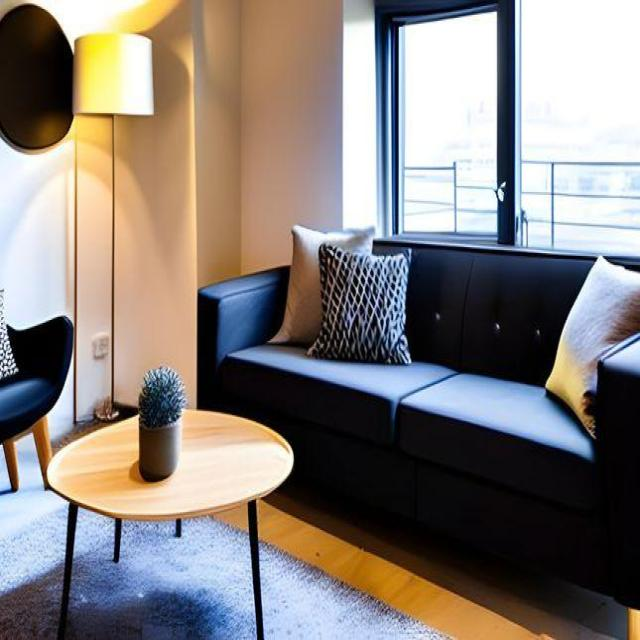Wall: (115, 0, 342, 405), (259, 501, 610, 639), (0, 116, 111, 417), (66, 510, 256, 639), (0, 441, 67, 638), (0, 1, 180, 46), (343, 0, 377, 228), (50, 367, 72, 436), (62, 425, 96, 445), (630, 616, 640, 635)
